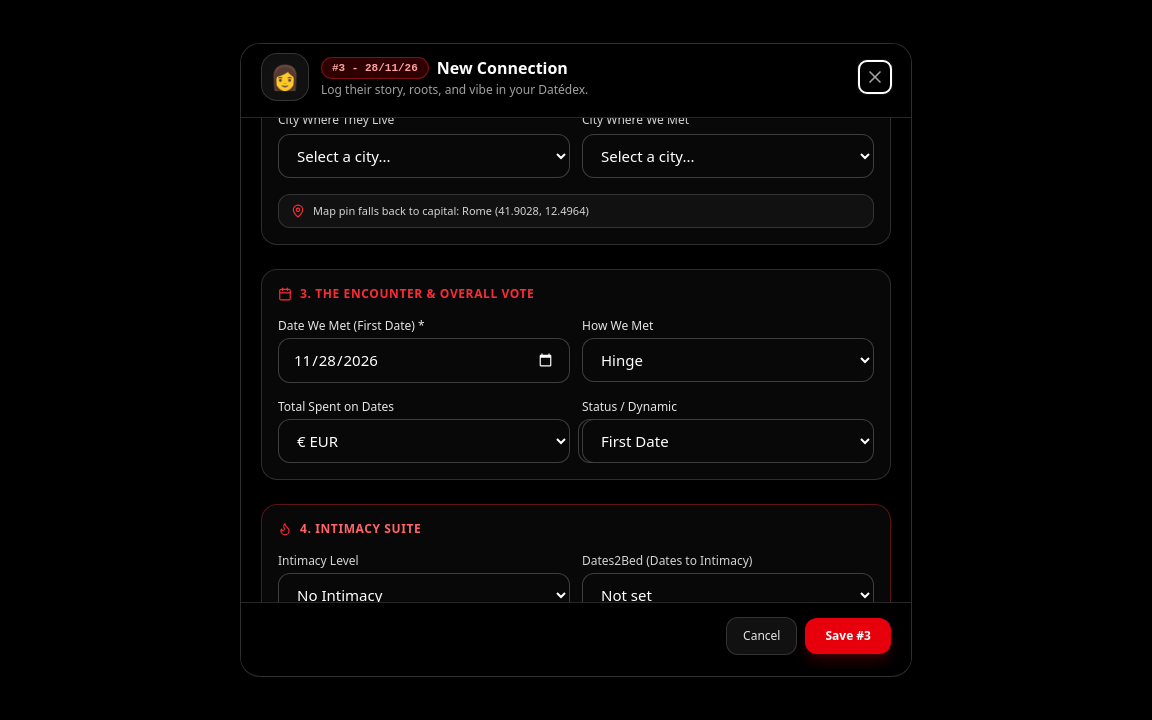
Scenario: PinEditorDialog › renders sections in exact top-to-bottom order, adapts pronouns, and recalculates chronological #N badge dynamically for older dates
Later steps or results of the test are not shown.
(page scrolled)
Expected: the text with test id "pin-editor-subtitle" reads "Log their story, roots, and vibe in your Datédex.", x1=321 y1=81 x2=588 y2=98
Step 1. Type "2026-03-05" into the date field labelled "Date We Met (First Date) *" → (424, 360), box x1=278 y1=338 x2=570 y2=383
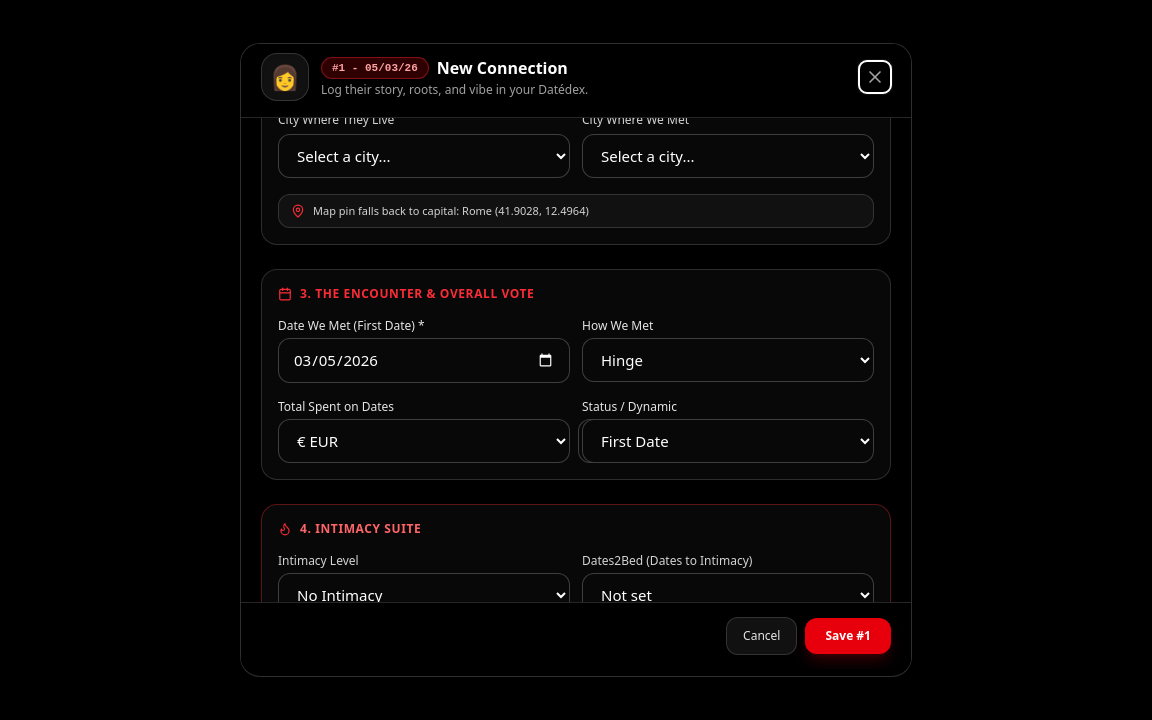
Result: the text with test id "pin-chronological-badge" reads "#1 - 05/03/26" at x1=332 y1=62 x2=418 y2=74
Result: the button "Save #1" is shown at x1=806 y1=618 x2=891 y2=654
